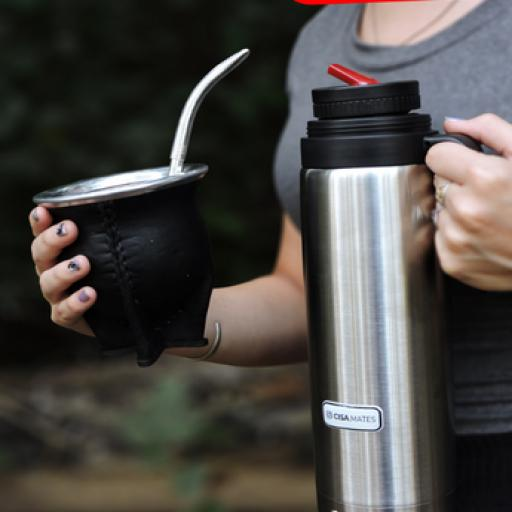mate: (35, 164, 213, 367)
termo: (300, 66, 480, 511)
